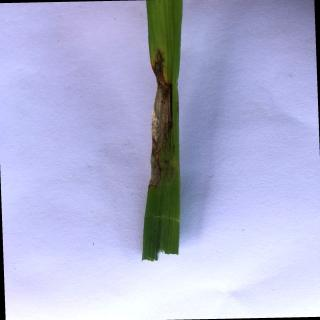Hawar-Daun: (150, 48, 174, 180)
